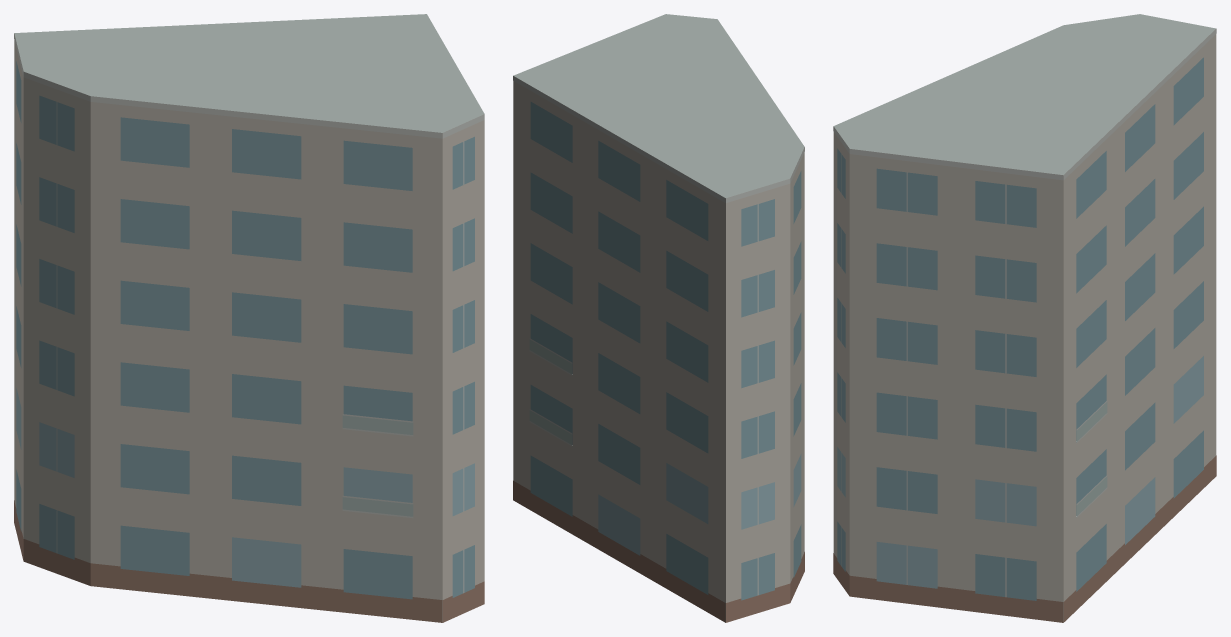
The model's file is survey-upis-32720879.glb.
3 views of the same model, side by side, from view 1: azimuth 30°, elevation 25°; view 2: azimuth 150°, elevation 25°; view 3: azimuth 270°, elevation 25° (orthographic). The views are drawn at different scales.
Parts seen in each view (by area): view 1: survey-upis-32720879.tmp; view 2: survey-upis-32720879.tmp; view 3: survey-upis-32720879.tmp.
Boxes of the visible parts, x1,y1,x2,y2 form: survey-upis-32720879.tmp: [14, 14, 484, 622]; survey-upis-32720879.tmp: [513, 14, 804, 622]; survey-upis-32720879.tmp: [833, 14, 1216, 622].
Bounding box in the file's own units: 16.15 × 20.9 × 16.21.
